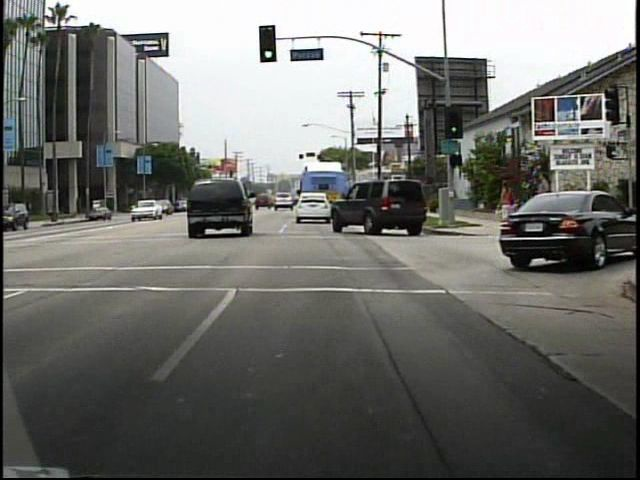person: (488, 175, 521, 239), (530, 169, 556, 228)
